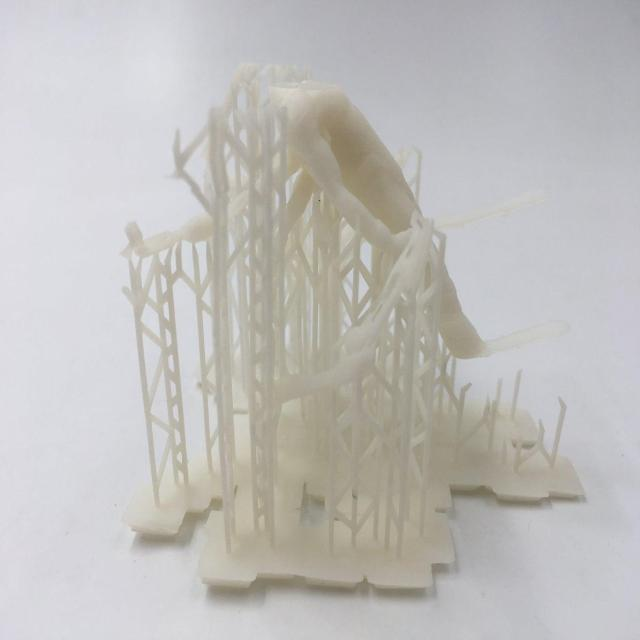Without deffect: (101, 49, 613, 602)
